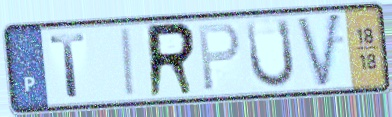I: (120, 25, 138, 100)
P: (196, 21, 243, 94)
R: (145, 20, 198, 101)
T: (47, 31, 88, 100)
U: (244, 16, 298, 91)
V: (294, 9, 343, 91)
